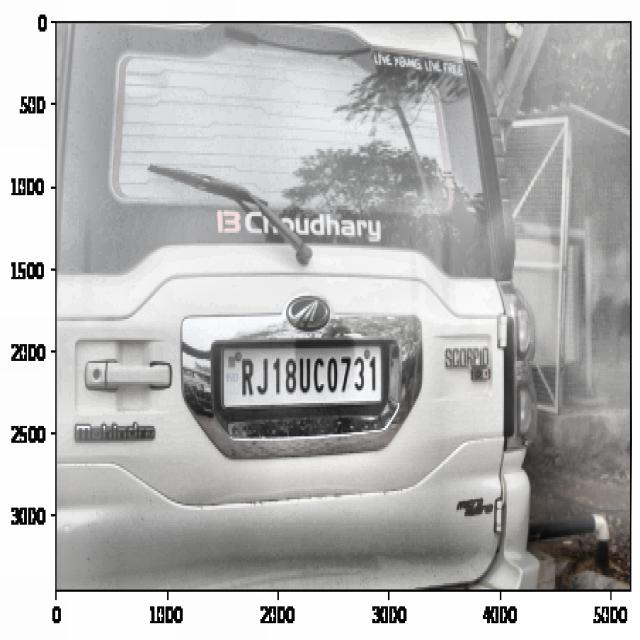license_plate: (234, 346, 382, 404)
